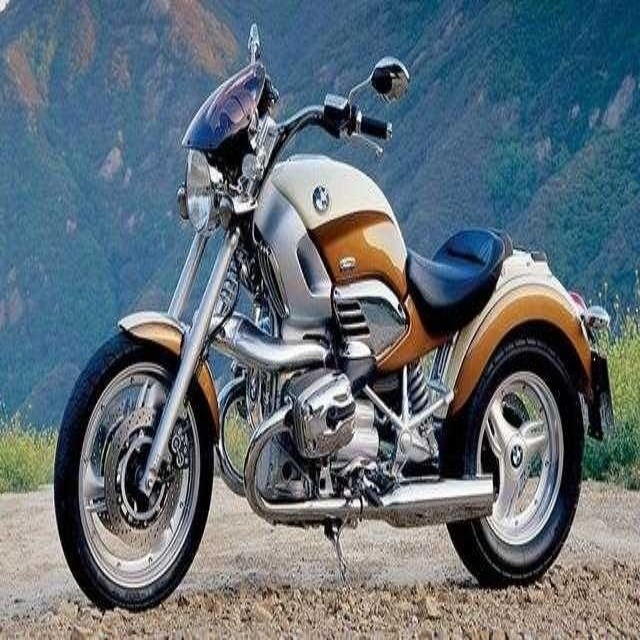Motorcycle: (54, 21, 615, 614)
